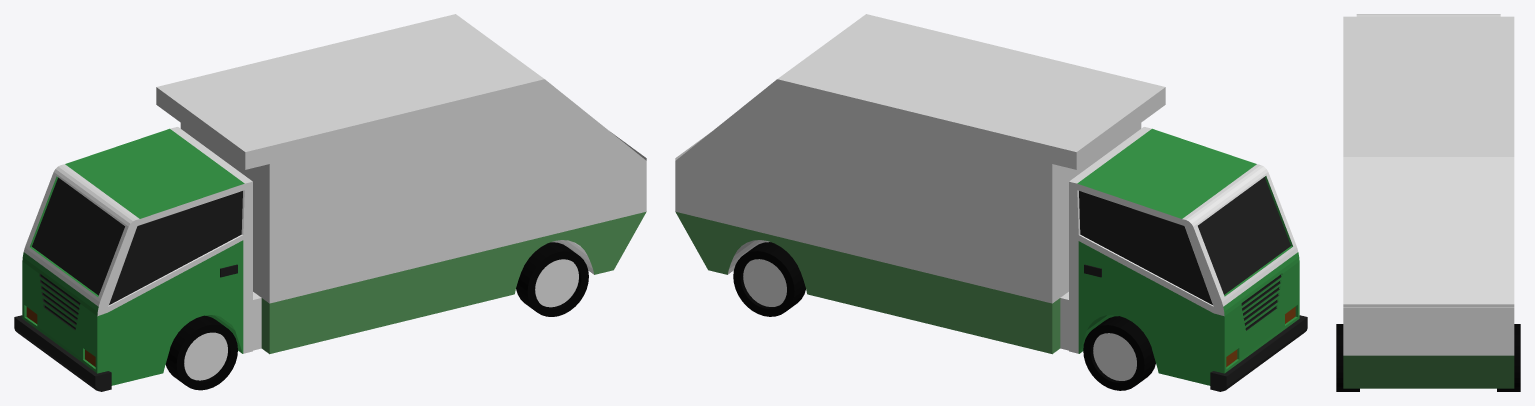
Rendered from uploads_files_3513732_truck_lowpoly_bautan_Sendiri_2.fbx.
3 views of the same model, side by side, from view 1: azimuth 30°, elevation 25°; view 2: azimuth 150°, elevation 25°; view 3: azimuth 270°, elevation 25° (orthographic). The views are drawn at different scales.
Parts seen in each view (by area): view 1: truck_buri, truck_depan, ban_buri, ban_depan; view 2: truck_buri, truck_depan, ban_depan, ban_buri; view 3: truck_buri, ban_buri, truck_depan.
Part boxes in pixels (x1,y1,x2,y2): truck_buri: [156, 14, 646, 354]; truck_depan: [14, 127, 252, 391]; ban_buri: [516, 242, 588, 316]; ban_depan: [165, 315, 237, 390]; truck_buri: [675, 14, 1165, 354]; truck_depan: [1069, 127, 1307, 391]; ban_depan: [1083, 316, 1155, 390]; ban_buri: [733, 242, 805, 316]; truck_buri: [1343, 16, 1514, 388]; ban_buri: [1336, 324, 1520, 391]; truck_depan: [1356, 14, 1500, 16].
Size of the model in its own units: 843 by 348 by 256.
